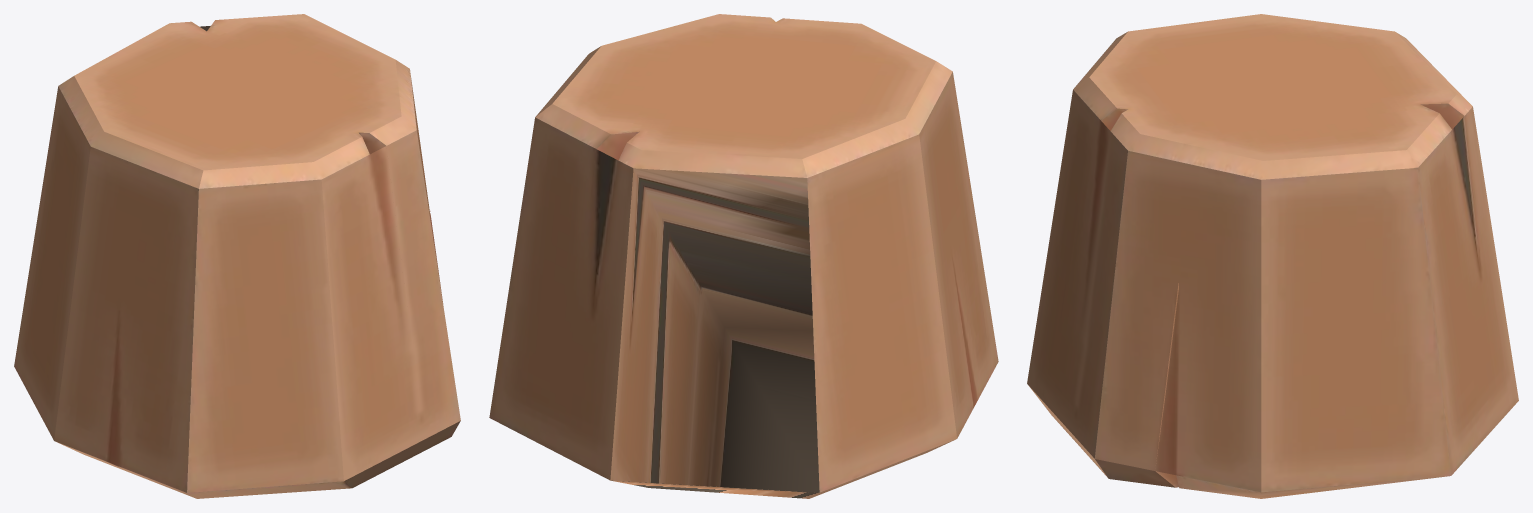
Rendered from desert-rock-05.glb.
3 views of the same model, side by side, from view 1: azimuth 30°, elevation 25°; view 2: azimuth 150°, elevation 25°; view 3: azimuth 270°, elevation 25° (orthographic). The views are drawn at different scales.
Parts seen in each view (by area): view 1: Rock_15; view 2: Rock_15; view 3: Rock_15.
Part boxes in pixels (left/top/right/bottom): Rock_15: left=14, top=14, right=460, bottom=498; Rock_15: left=489, top=14, right=998, bottom=498; Rock_15: left=1027, top=14, right=1518, bottom=498.
Size of the model in its own units: 4.01 by 3.1 by 4.22.
Materials: 1 (1 with a texture image).
